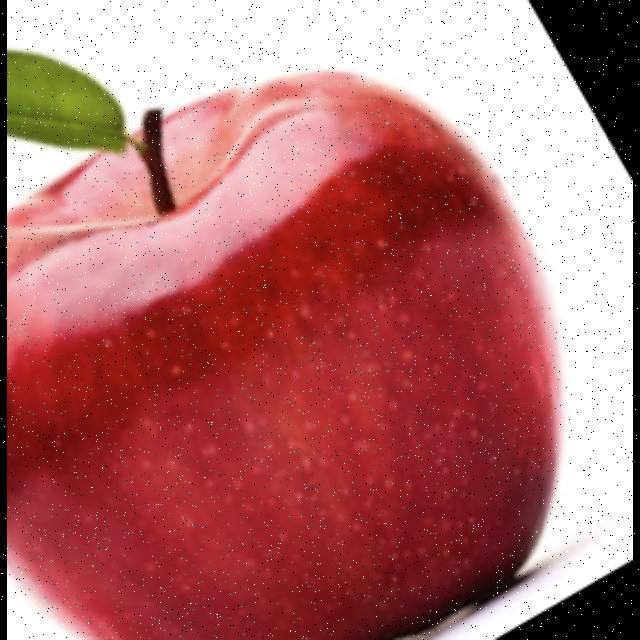Apel Segar: (8, 58, 574, 640)
